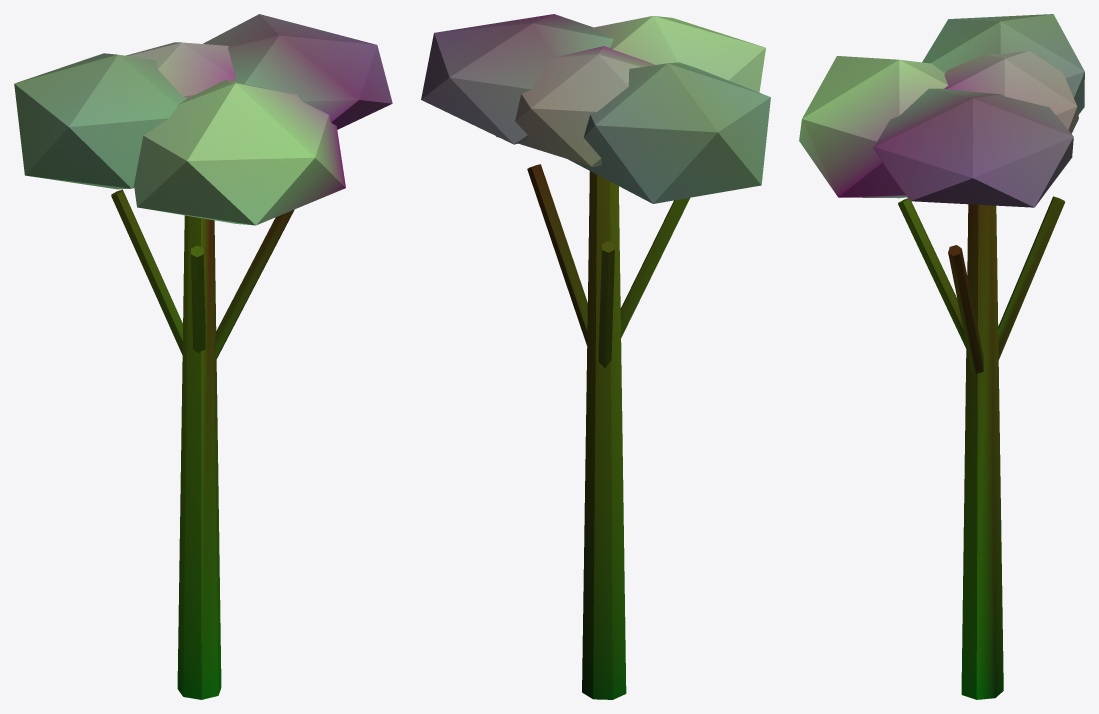
File: broadleaf_03.glb
The picture shows the model from 3 angles, left to right: view 1: azimuth 30°, elevation 25°; view 2: azimuth 150°, elevation 25°; view 3: azimuth 270°, elevation 25°; orthographic projection. The views are drawn at different scales.
Parts seen in each view (by area): view 1: broadleaf_03; view 2: broadleaf_03; view 3: broadleaf_03.
Part boxes in pixels (x1,y1,x2,y2): broadleaf_03: [14, 14, 392, 699]; broadleaf_03: [421, 14, 770, 699]; broadleaf_03: [799, 14, 1084, 699].
Bounding box in the file's own units: 2.85 × 5.19 × 2.12.
